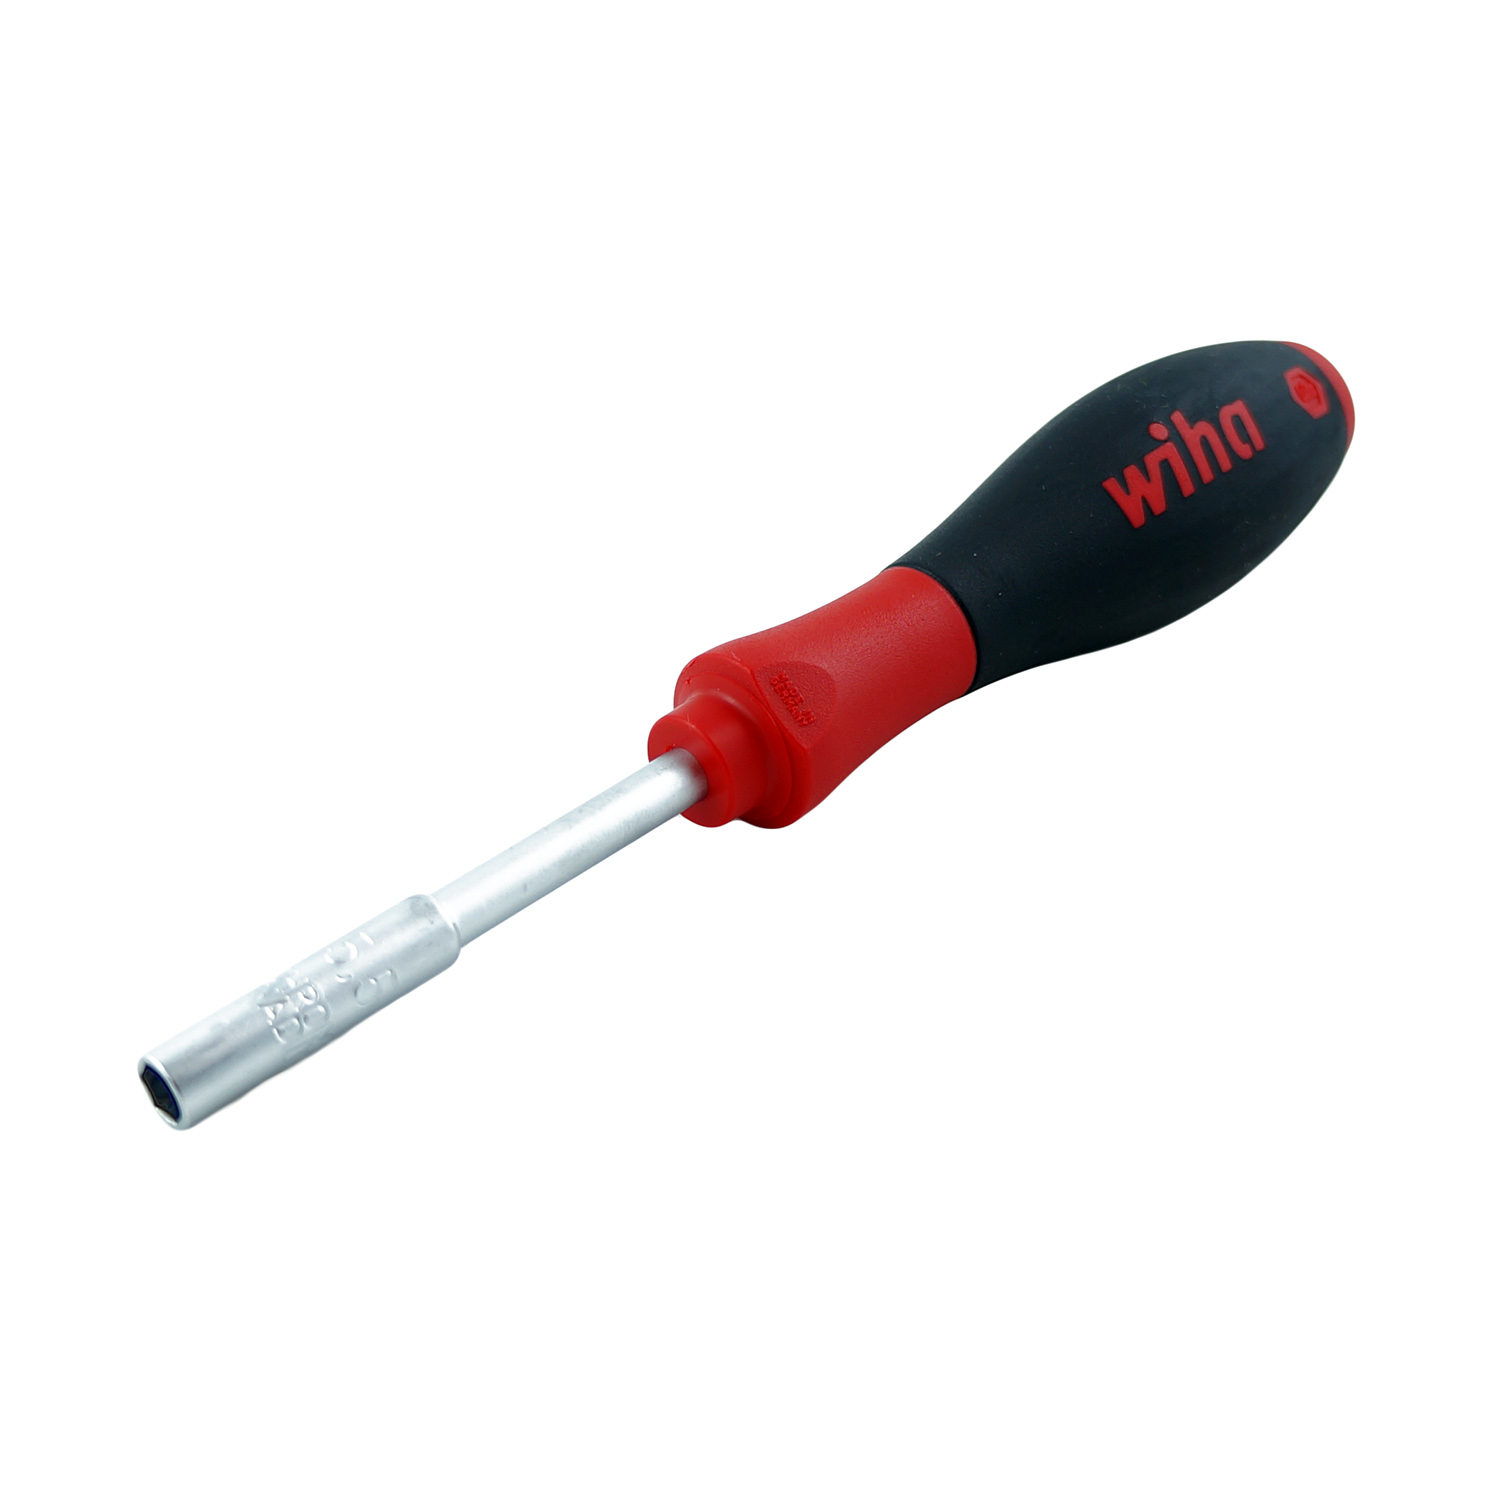screwdriver: (135, 335, 1363, 1135)
